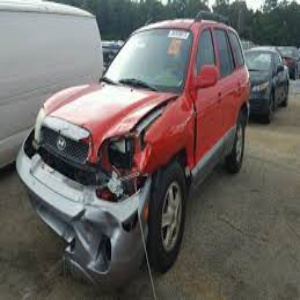bumper: (69, 185, 154, 285)
